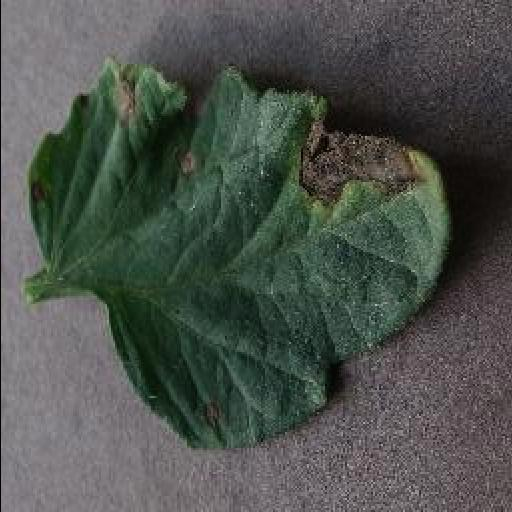disease_tomato: (26, 68, 450, 454)
